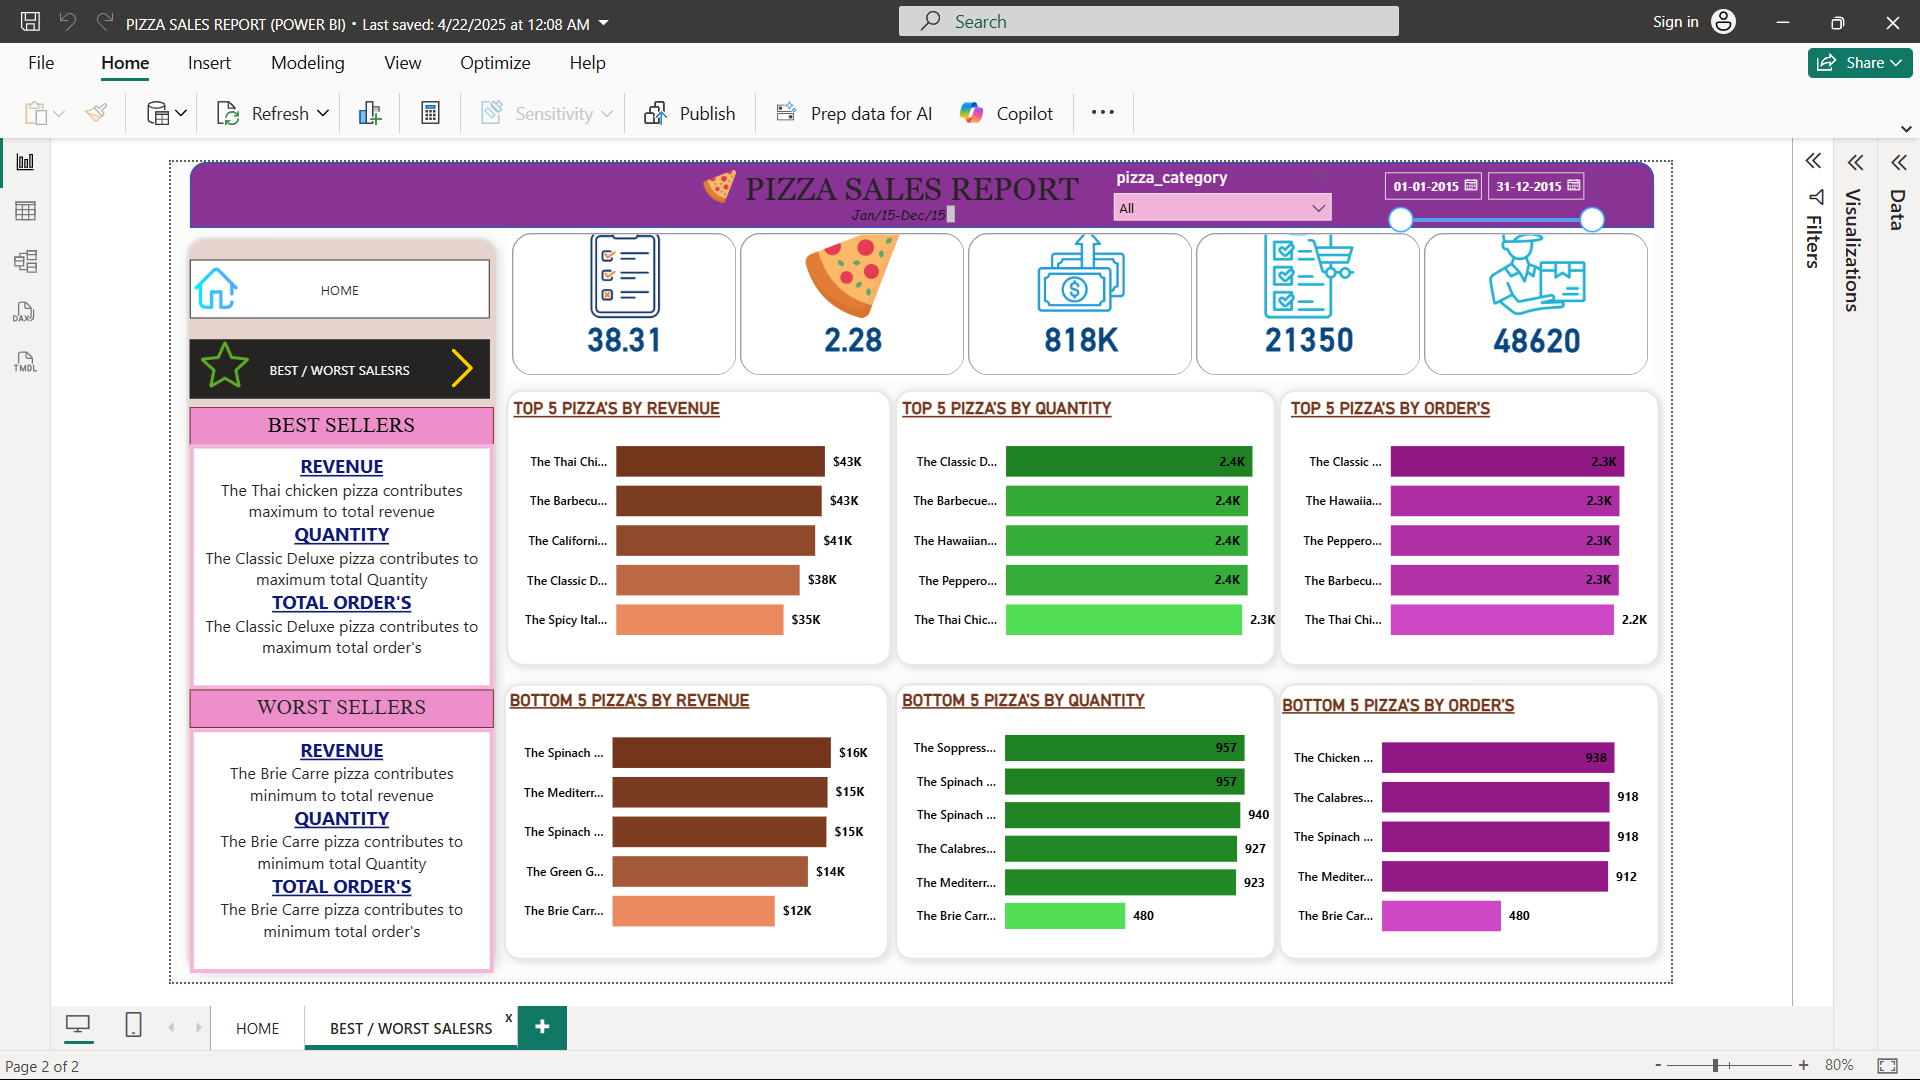

What the dashboard file says about the page in this screenshot:
{"tool":"powerbi","page":{"name":"BEST / WORST SALESRS","canvas":[1500,820],"ordinal":1},"visuals":[{"type":"cardVisual","fields":{"Data":["pizza_sales.avg_order_value","pizza_sales.avg_pizza_per_order","pizza_sales.total revenue","pizza_sales.total_order","pizza_sales.total_pizza_sold"]},"box":[336.1,65.9,1146.6,152.8],"z":0},{"type":"shape","box":[18.6,0,1464.4,66.1],"z":1000},{"type":"textbox","box":[569,3.4,363.8,56.9],"z":2000},{"type":"textbox","box":[675.4,39,114.2,26.5],"z":3000},{"type":"image","box":[267.4,2.8,562.6,44.6],"z":4000},{"type":"shape","box":[326.4,218.7,403,294],"z":5000},{"type":"shape","box":[6.4,65.9,329.7,754.2],"z":6000},{"type":"textbox","box":[19.3,244.4,303.9,38.6],"z":7000},{"type":"textbox","box":[19.3,283,303.9,244.4],"z":8000},{"type":"textbox","box":[19.3,527.4,303.9,38.6],"z":9000},{"type":"textbox","box":[19.3,566,303.9,244.4],"z":10000},{"type":"slicer","fields":{"Values":["pizza_sales.pizza_category"]},"box":[932.7,0,238,65.9],"z":11000},{"type":"slicer","fields":{"Values":["pizza_sales.order_date"]},"box":[1201.9,0,240.9,79.4],"z":12000},{"type":"shape","box":[715.6,218.7,398.8,294.3],"z":13000},{"type":"shape","box":[1098.3,218.7,398.8,294.3],"z":14000},{"type":"shape","box":[323.2,513,403,294.3],"z":15000},{"type":"shape","box":[715.6,513,398.8,294.3],"z":16000},{"type":"shape","box":[1098.3,513,398.8,294.3],"z":17000},{"type":"barChart","title":"TOP 5 PIZZA''S BY REVENUE","fields":{"Category":["pizza_sales.pizza_name"],"Y":["pizza_sales.total revenue"]},"box":[337.7,236.4,379.5,258.9],"z":18000},{"type":"barChart","title":"BOTTOM 5 PIZZA''S BY REVENUE","fields":{"Category":["pizza_sales.pizza_name"],"Y":["pizza_sales.total revenue"]},"box":[334.2,527.8,380.2,259],"z":19000},{"type":"barChart","title":"TOP 5 PIZZA''S BY QUANTITY","fields":{"Category":["pizza_sales.pizza_name"],"Y":["pizza_sales.total pizza sold"]},"box":[726.8,236.4,385.9,258.9],"z":20000},{"type":"barChart","title":"BOTTOM 5 PIZZA''S BY QUANTITY","fields":{"Category":["pizza_sales.pizza_name"],"Y":["pizza_sales.total pizza sold"]},"box":[726.8,527.4,379.5,258.9],"z":21000},{"type":"barChart","title":"TOP 5 PIZZA''S BY ORDER''S","fields":{"Category":["pizza_sales.pizza_name"],"Y":["pizza_sales.total order"]},"box":[1114.4,236.4,369.9,258.9],"z":22000},{"type":"barChart","title":"BOTTOM 5 PIZZA''S BY ORDER''S","fields":{"Category":["pizza_sales.pizza_name"],"Y":["pizza_sales.total order"]},"box":[1106.4,532.3,369.9,258.9],"z":23000},{"type":"pageNavigator","box":[19.3,176.9,300.7,59.5],"z":24000},{"type":"pageNavigator","box":[19.3,98.1,300.7,59.5],"z":25000},{"type":"image","box":[262.1,181.7,57.9,49.9],"z":26000},{"type":"image","box":[19.3,98.1,53.1,57.9],"z":27000},{"type":"image","box":[19.3,173.7,70.8,57.9],"z":28000}]}

Visuals, with their boxes on the page's 1500x820 design canvas (x1, y1, x2, y2). These are canvas units, not pixel positions in the 1920x1080 screenshot, which may show the page scaled, cropped or inside an application window:
cardVisual - pizza_sales.avg_order_value x pizza_sales.avg_pizza_per_order: [336, 66, 1483, 219]
shape: [19, 0, 1483, 66]
textbox: [569, 3, 933, 60]
textbox: [675, 39, 790, 66]
image: [267, 3, 830, 47]
shape: [326, 219, 729, 513]
shape: [6, 66, 336, 820]
textbox: [19, 244, 323, 283]
textbox: [19, 283, 323, 527]
textbox: [19, 527, 323, 566]
textbox: [19, 566, 323, 810]
slicer - pizza_sales.pizza_category: [933, 0, 1171, 66]
slicer - pizza_sales.order_date: [1202, 0, 1443, 79]
shape: [716, 219, 1114, 513]
shape: [1098, 219, 1497, 513]
shape: [323, 513, 726, 807]
shape: [716, 513, 1114, 807]
shape: [1098, 513, 1497, 807]
"TOP 5 PIZZA''S BY REVENUE" barChart: [338, 236, 717, 495]
"BOTTOM 5 PIZZA''S BY REVENUE" barChart: [334, 528, 714, 787]
"TOP 5 PIZZA''S BY QUANTITY" barChart: [727, 236, 1113, 495]
"BOTTOM 5 PIZZA''S BY QUANTITY" barChart: [727, 527, 1106, 786]
"TOP 5 PIZZA''S BY ORDER''S" barChart: [1114, 236, 1484, 495]
"BOTTOM 5 PIZZA''S BY ORDER''S" barChart: [1106, 532, 1476, 791]
pageNavigator: [19, 177, 320, 236]
pageNavigator: [19, 98, 320, 158]
image: [262, 182, 320, 232]
image: [19, 98, 72, 156]
image: [19, 174, 90, 232]
